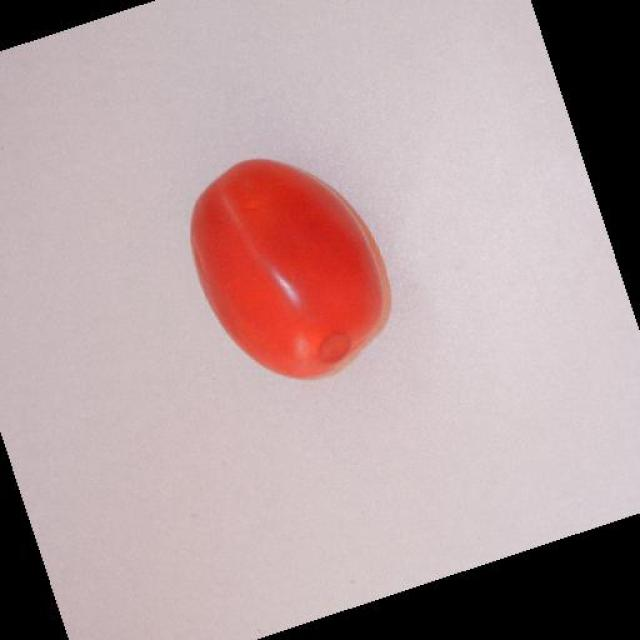Stale_tomato: (194, 157, 400, 390)
